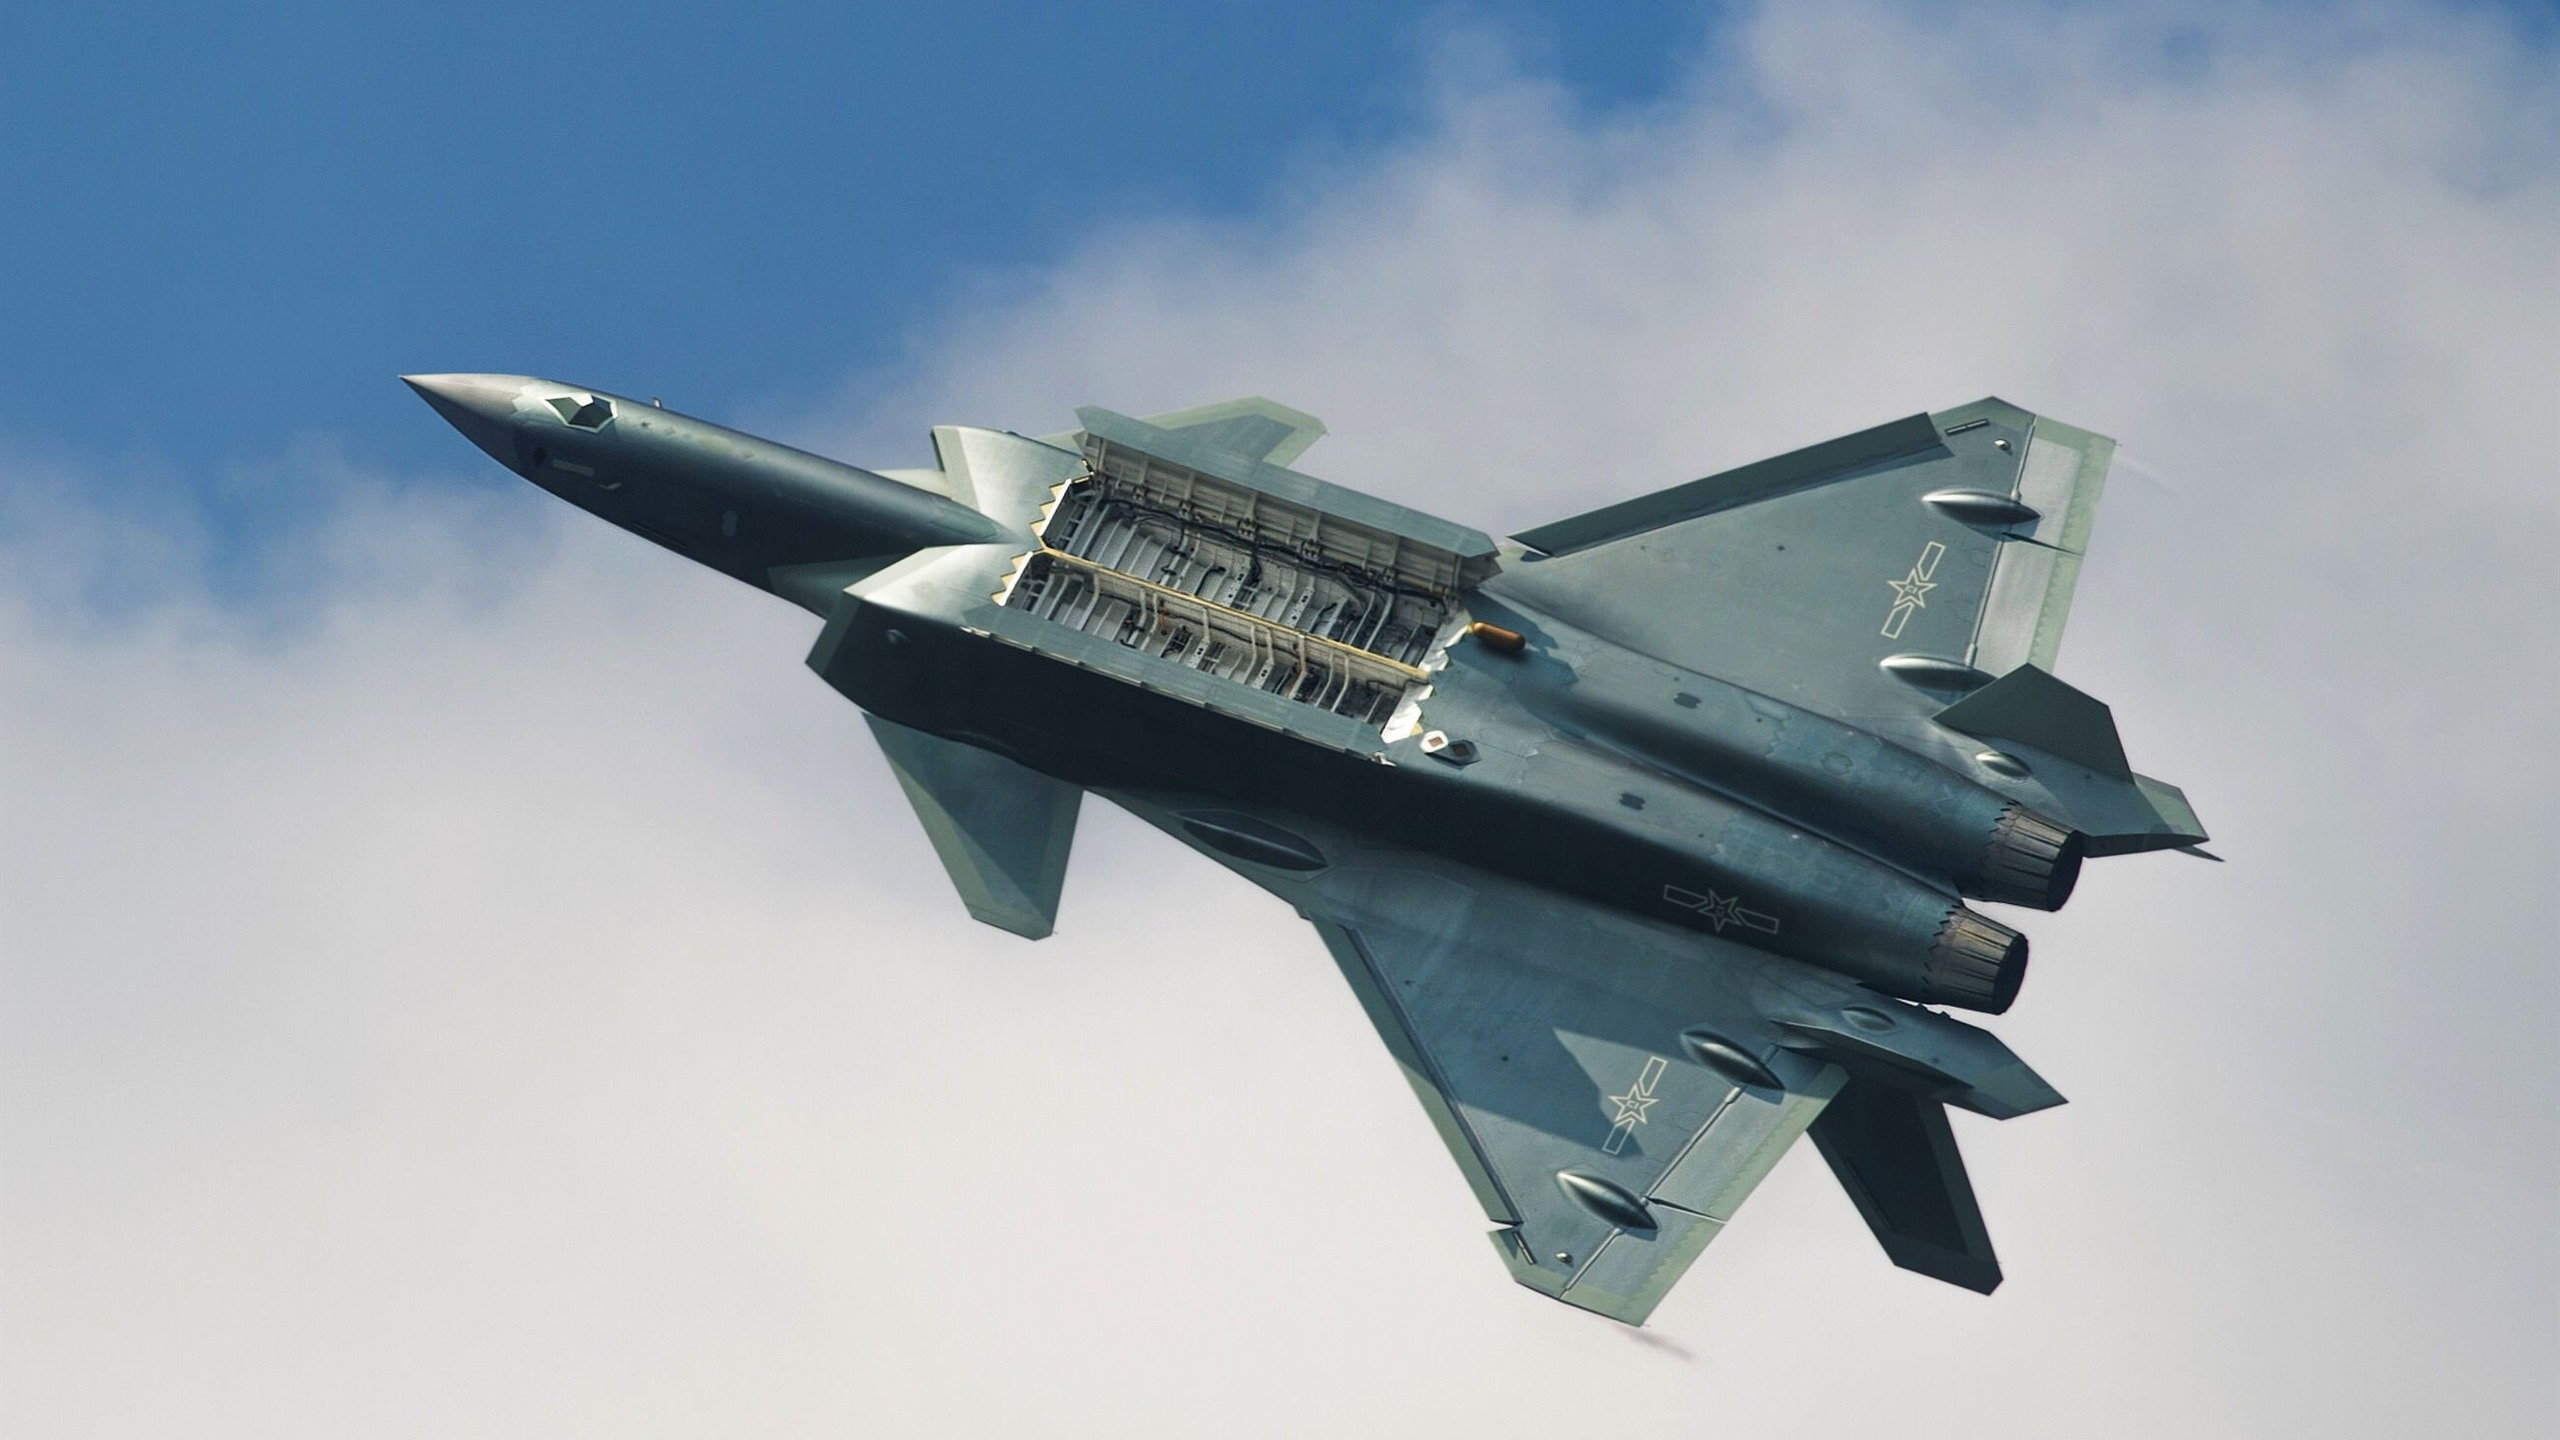J20: (397, 373, 2226, 1329)
